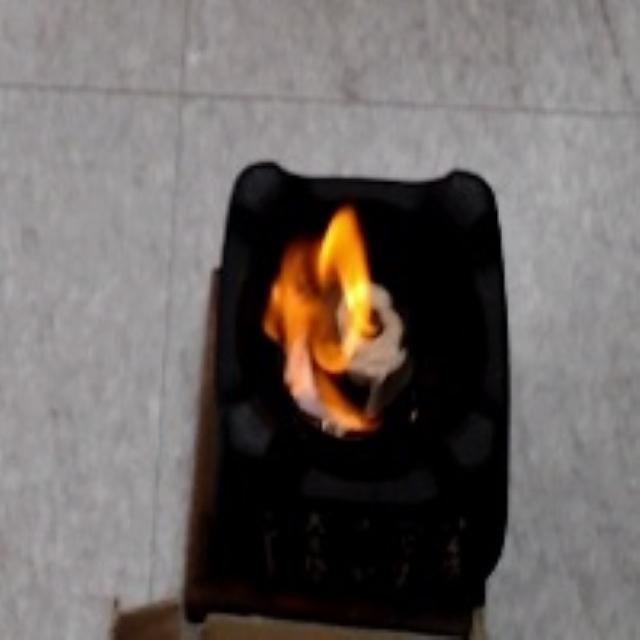Fire: (252, 198, 376, 438)
